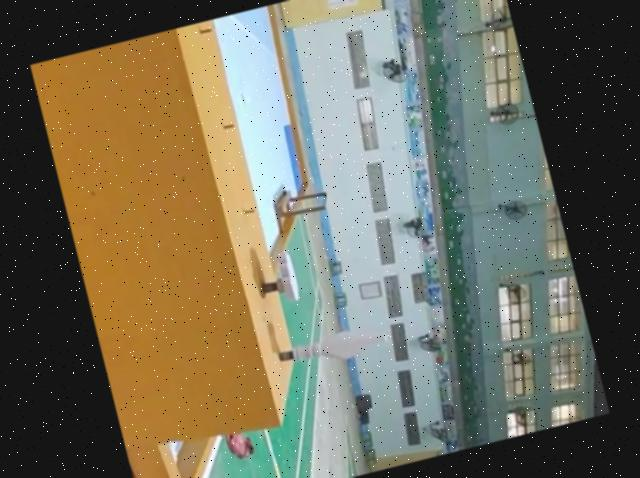Hand: (253, 249, 302, 306)
Sph: (271, 318, 390, 379)
